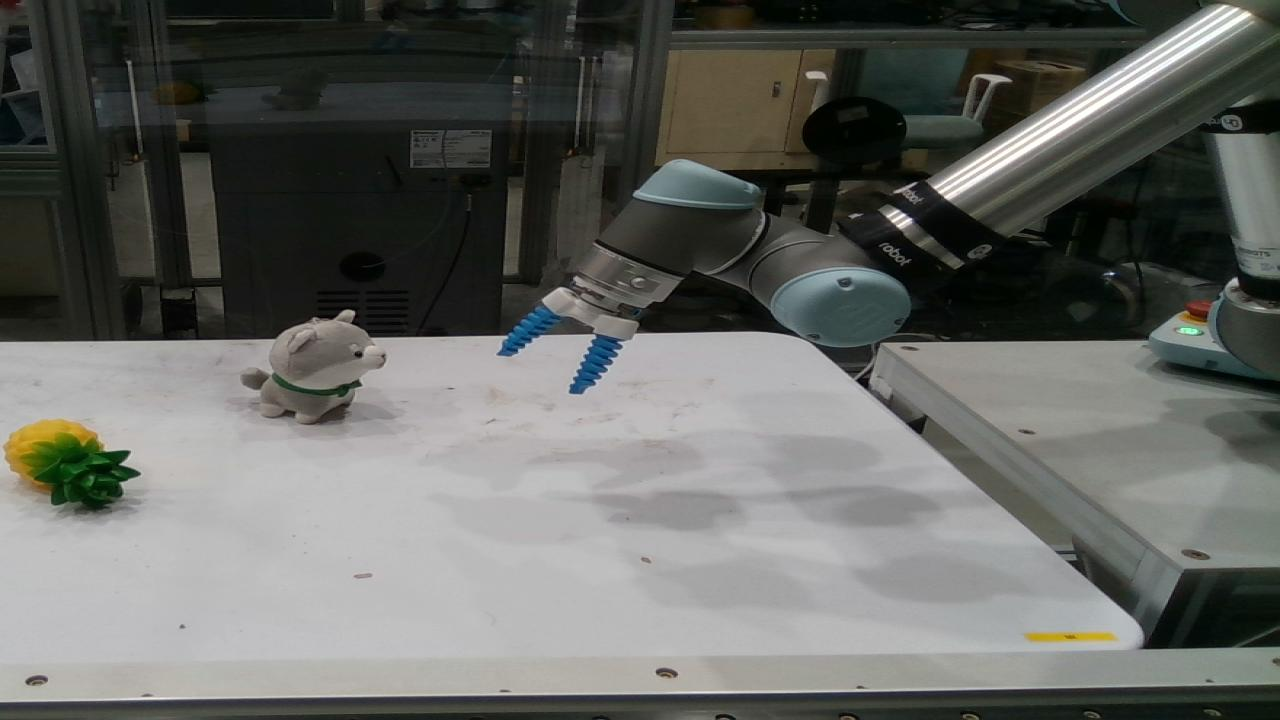UR5: (642, 0, 1276, 377)
gripper_left: (497, 304, 560, 355)
gripper_right: (574, 335, 618, 394)
target: (256, 312, 382, 422), (6, 420, 136, 507)
